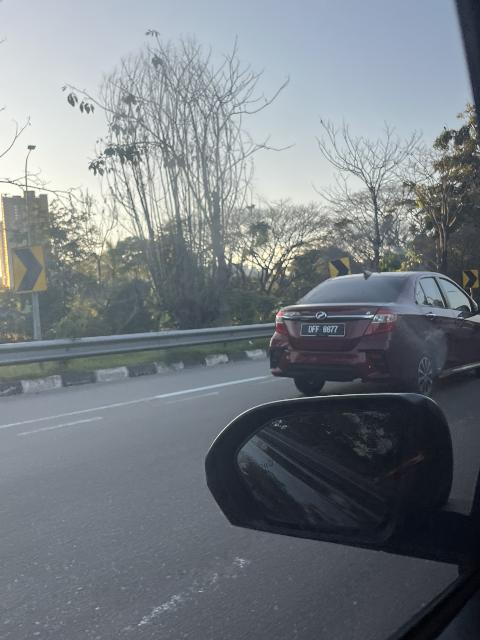License_Plate: (292, 319, 351, 345)
car: (264, 269, 480, 394)
